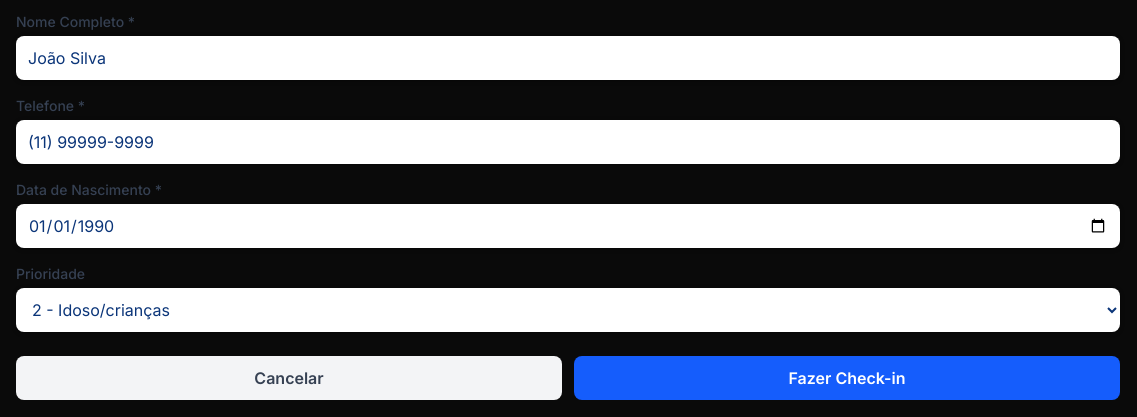
Test: NewPatientCheckInForm › handles phone number formatting
Replace the text in the field showing "(11) 99999-9999" below "Telefone *" with "11988887777" at (568, 142), box [16,120,1120,164]
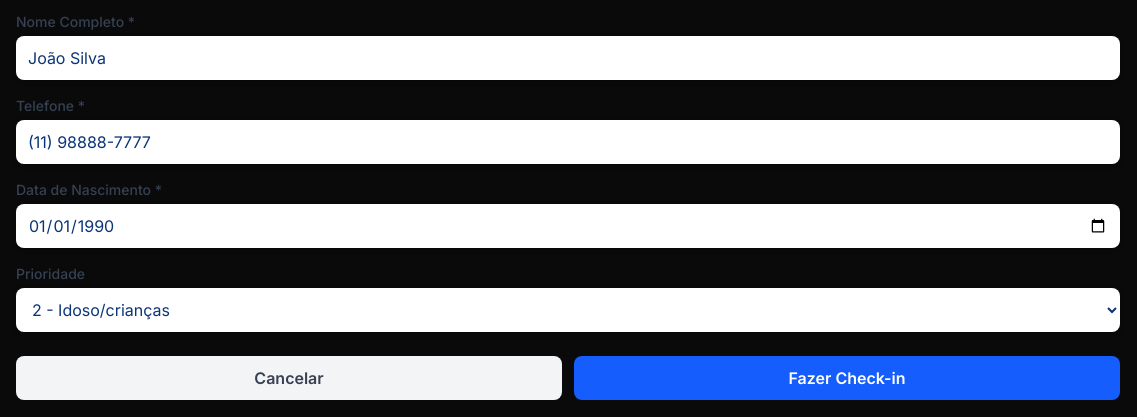
Result: the field showing "(11) 99999-9999" below "Telefone *" holds "(11) 98888-7777" at [16,120,1120,164]
